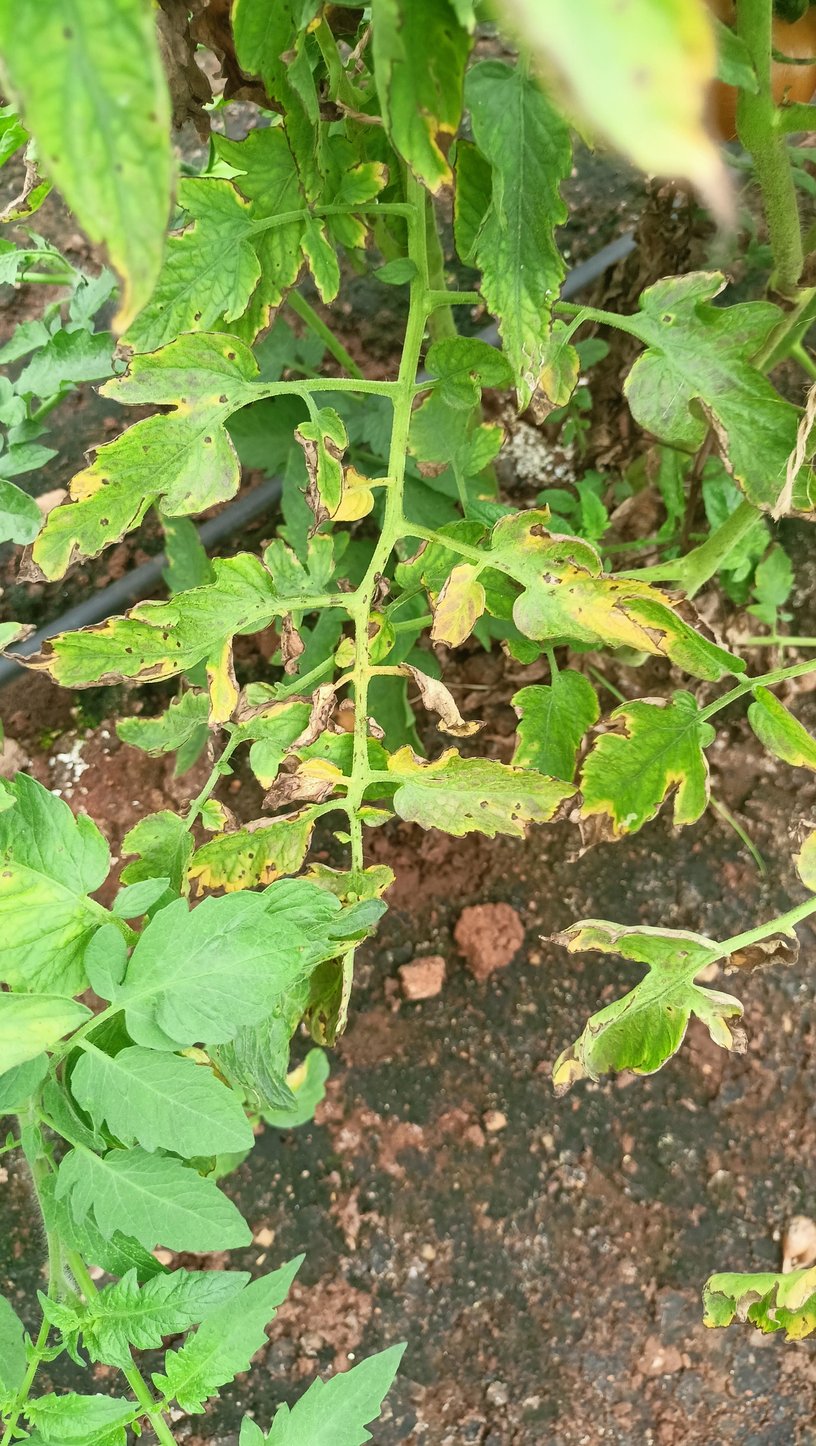Early Blight: (2, 535, 336, 738), (6, 327, 265, 587), (484, 497, 755, 681), (533, 917, 752, 1100), (111, 175, 264, 359), (565, 692, 718, 864), (388, 741, 591, 842), (177, 799, 320, 900), (290, 403, 353, 535), (251, 752, 342, 816)
Healthy: (87, 887, 319, 1052), (153, 1253, 309, 1413), (51, 1146, 257, 1255), (68, 1042, 257, 1160), (86, 1264, 252, 1370)
